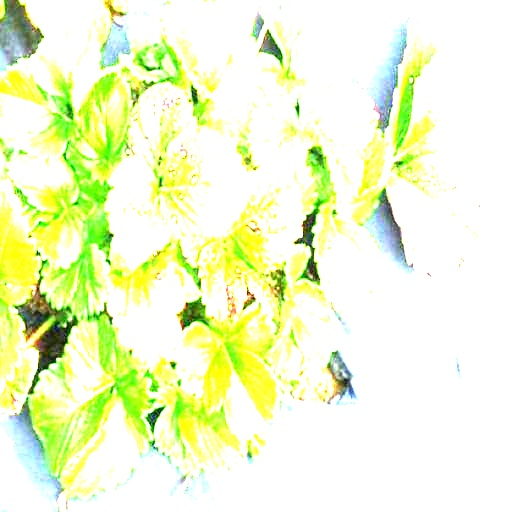Leaf Spot: (384, 153, 491, 281), (391, 44, 492, 167), (158, 128, 250, 238), (383, 6, 445, 154), (226, 168, 308, 275), (103, 158, 173, 276), (162, 0, 241, 100), (312, 201, 380, 313), (123, 82, 197, 181), (303, 109, 366, 207), (299, 76, 380, 149), (248, 82, 309, 173), (0, 178, 42, 305), (204, 70, 273, 141), (197, 238, 249, 326), (237, 258, 289, 334), (0, 347, 40, 415)
